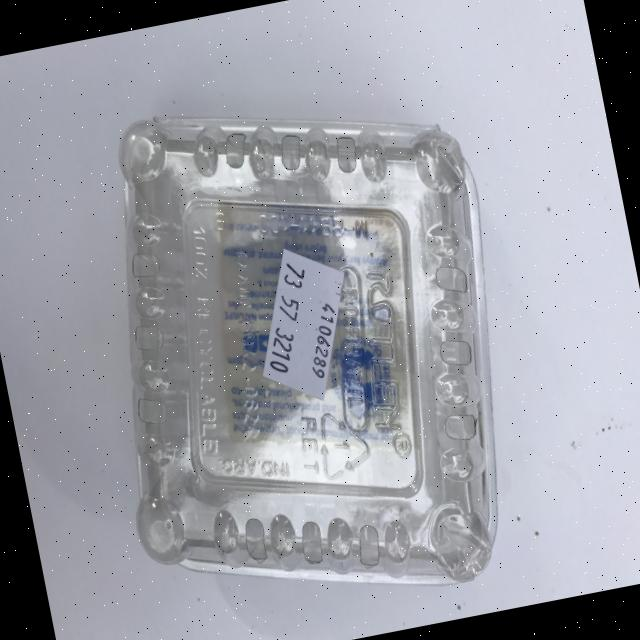plastic: (60, 58, 549, 640)
